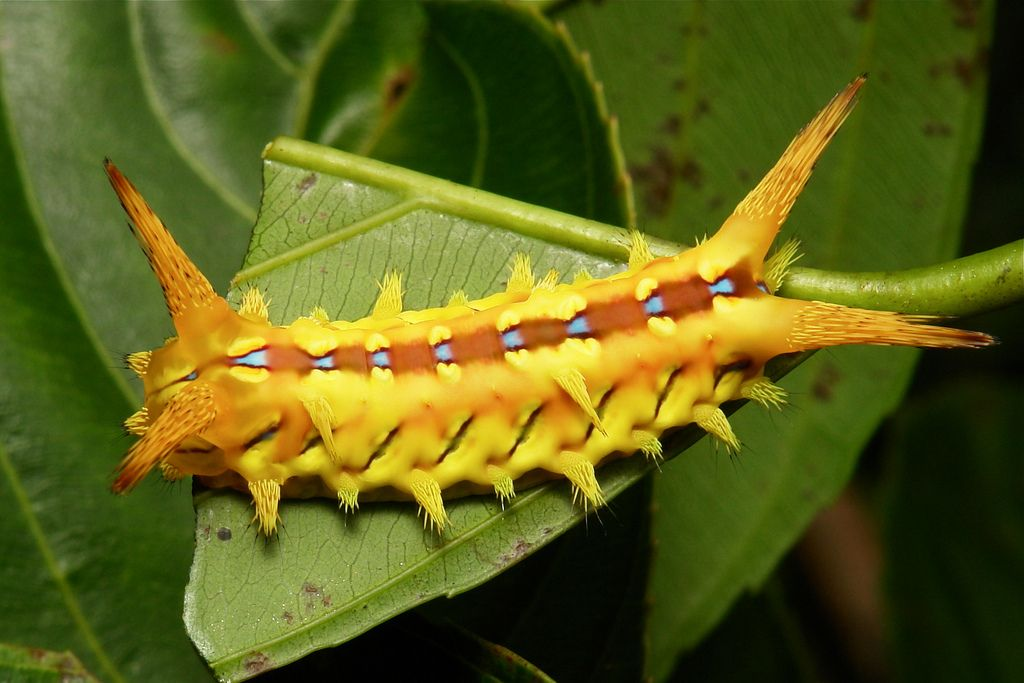Pest! (nettle_caterpillar): (77, 131, 977, 513)
